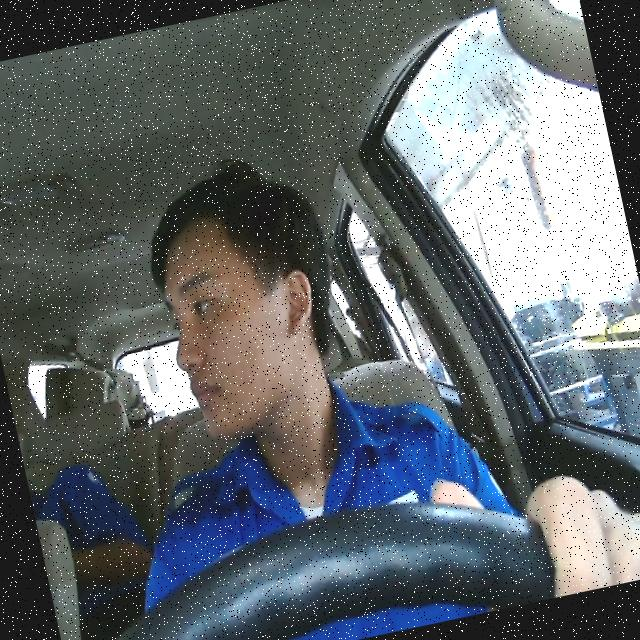seeing_left: (144, 194, 336, 445)
